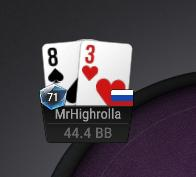3h: (79, 41, 132, 105)
8s: (42, 42, 79, 105)
